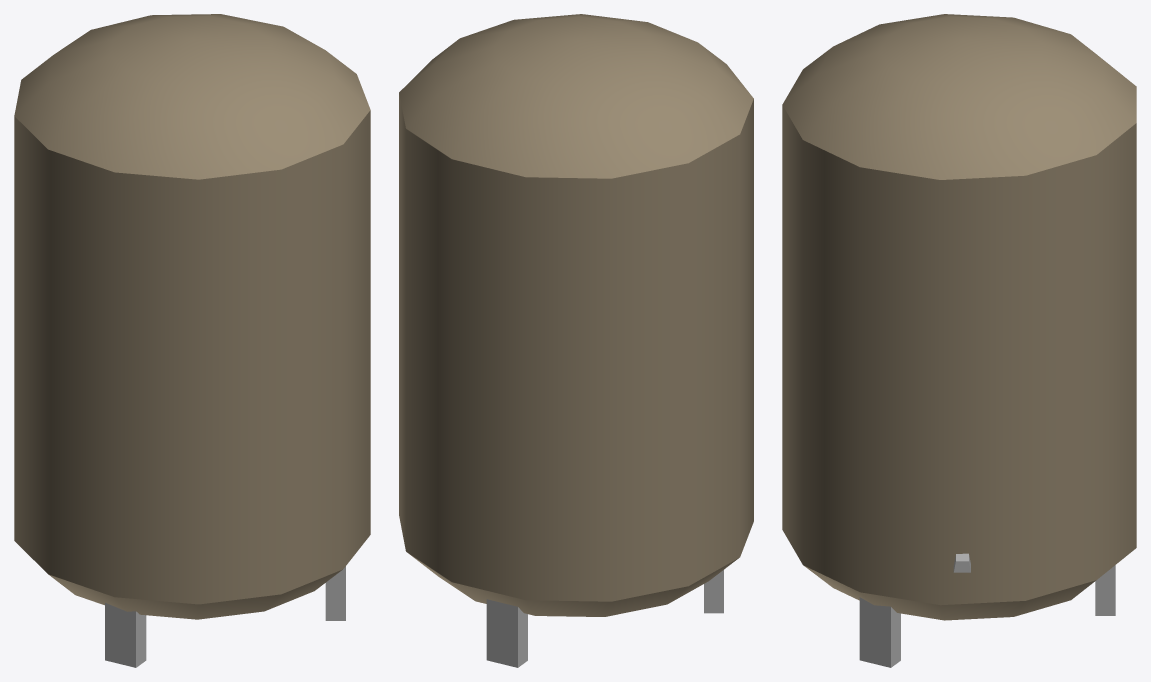
Rendered from SM_Barrel_03.fbx.
3 views of the same model, side by side, from view 1: azimuth 30°, elevation 25°; view 2: azimuth 150°, elevation 25°; view 3: azimuth 270°, elevation 25° (orthographic).
Parts seen in each view (by area): view 1: SM_Barrel_03; view 2: SM_Barrel_03; view 3: SM_Barrel_03.
Boxes of the visible parts, bbox=[...] form: SM_Barrel_03: bbox=[14, 14, 370, 667]; SM_Barrel_03: bbox=[399, 14, 753, 667]; SM_Barrel_03: bbox=[782, 14, 1136, 667].
Size of the model in its own units: 64.04 by 108 by 61.01.
